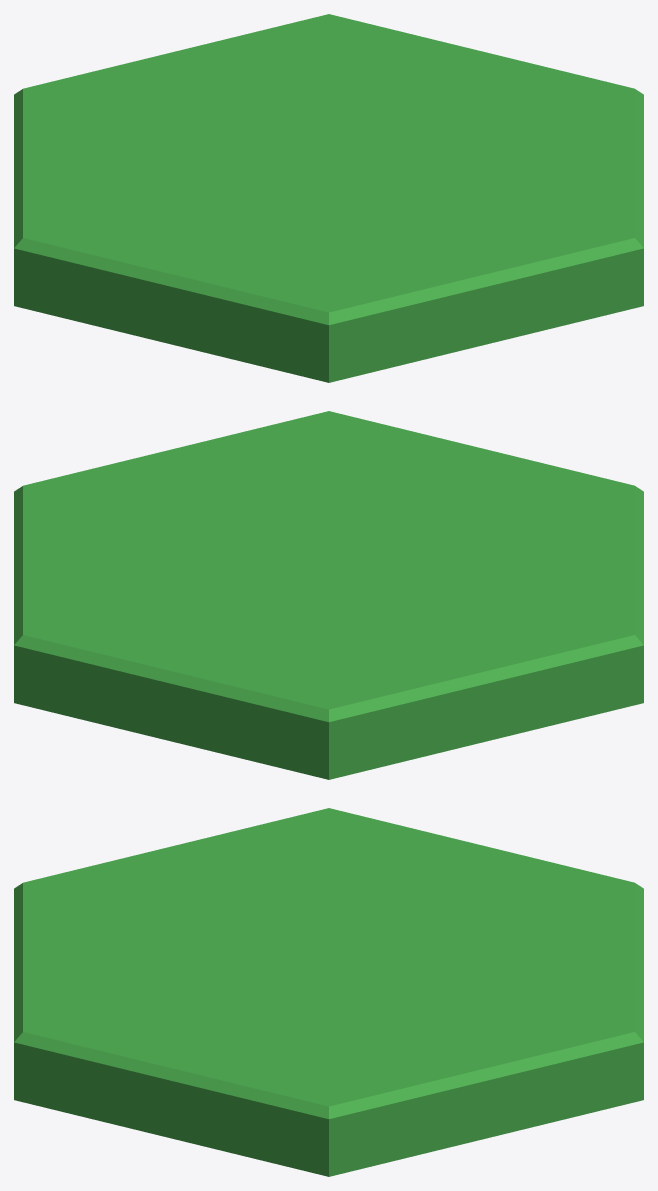
File: simple_tile_grass.gltf
3 views of the same model, one above another, from view 1: azimuth 30°, elevation 25°; view 2: azimuth 150°, elevation 25°; view 3: azimuth 270°, elevation 25° (orthographic).
Parts seen in each view (by area): view 1: Circle; view 2: Circle; view 3: Circle.
Part boxes in pixels (box(x1,y1,x2,y2)): Circle: box(14, 14, 643, 382); Circle: box(14, 411, 643, 779); Circle: box(14, 808, 643, 1176).
Size of the model in its own units: 2 by 0.2 by 1.73.
